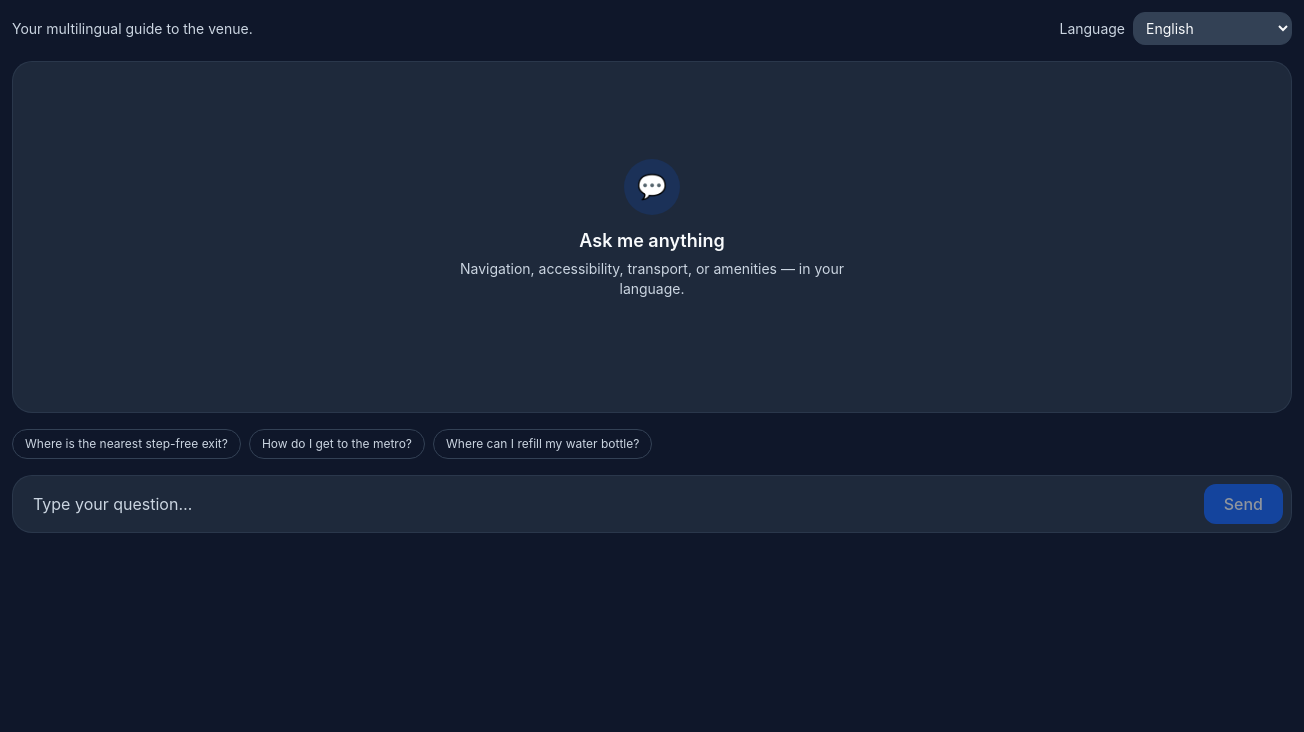
Test case: FanCopilot › sends a question and shows the grounded answer with sources
The width and height of the screenshot is (1304, 732).
Type "where is the step-free entrance" into the field named "ask the fan copilot" at coordinates (608, 504), box [21, 484, 1196, 524]
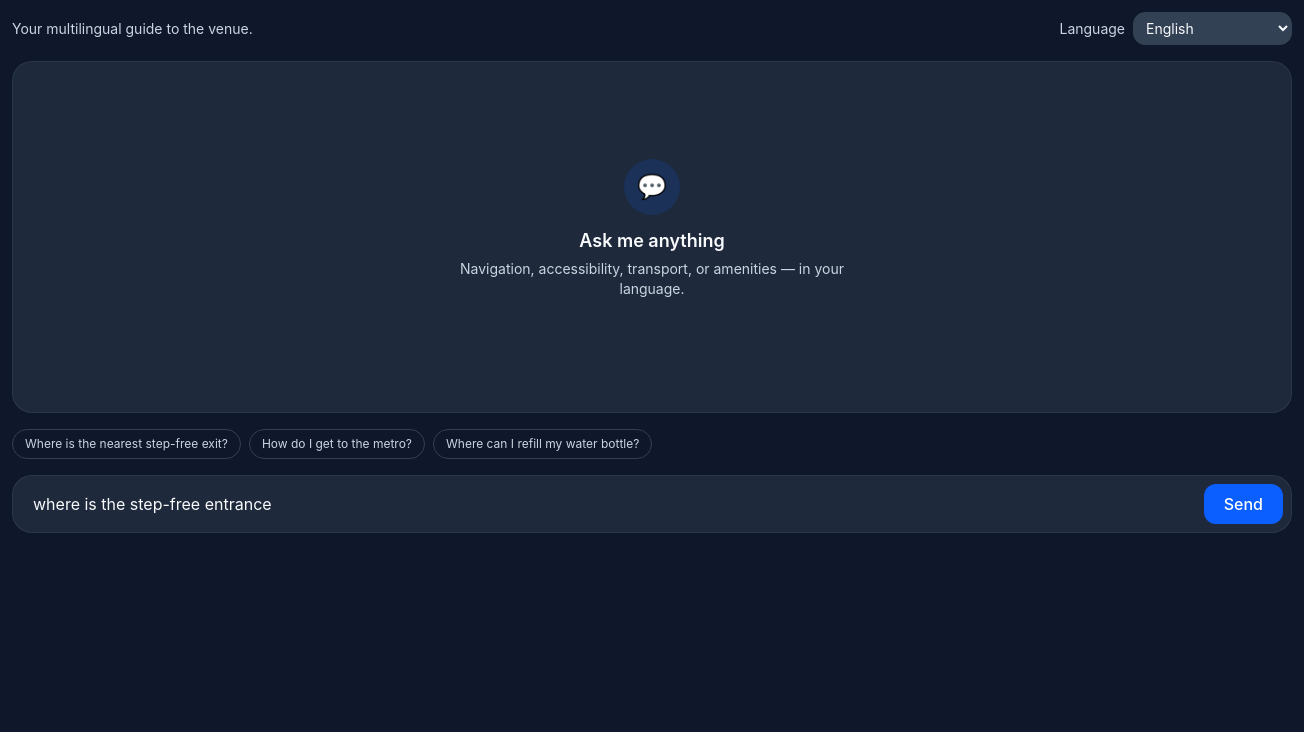
Click the button "Send" at coordinates (1243, 504), box [1204, 484, 1283, 524]
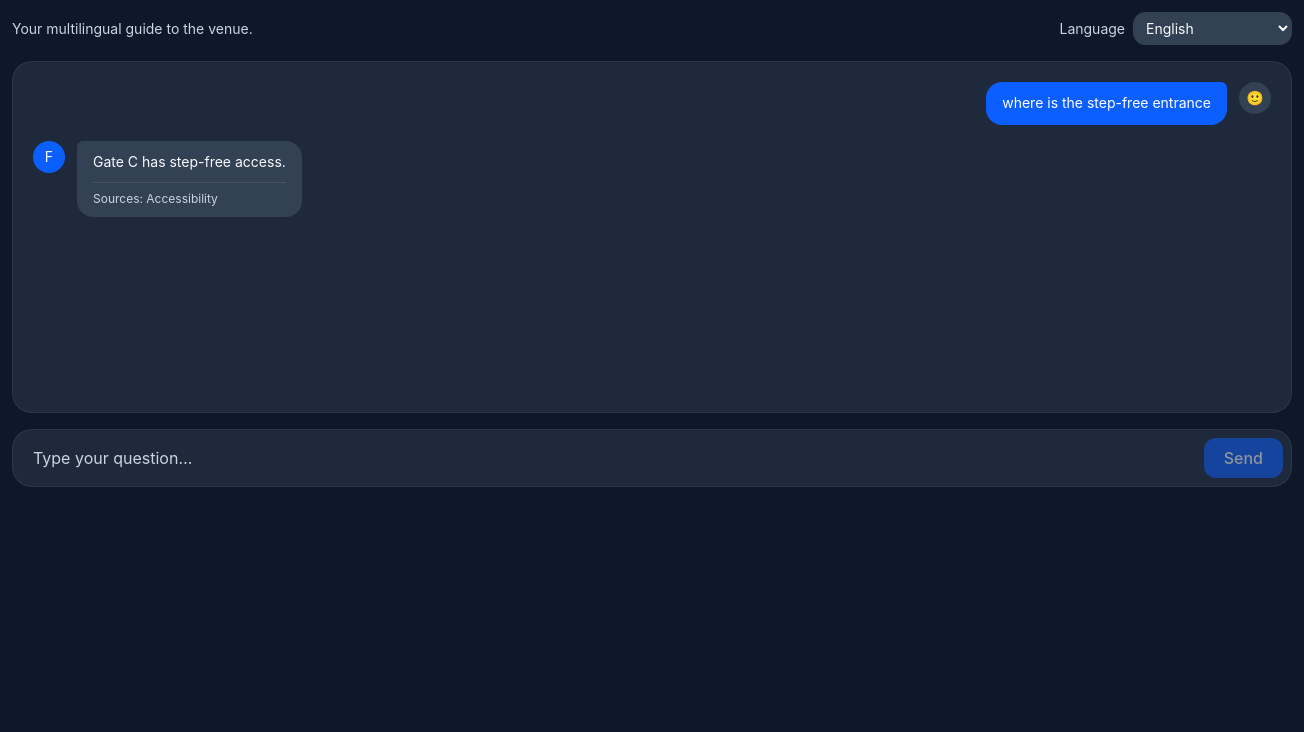
Check: the text "Gate C has step-free access." is shown, box [93, 151, 286, 174]
Check: the text "Sources: Accessibility" is shown, box [93, 182, 286, 206]
